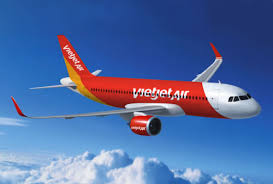maybay_dansu: (19, 37, 257, 130)
